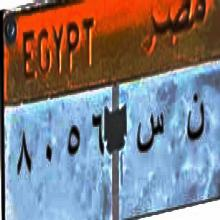0: (40, 133, 56, 173)
5: (67, 118, 82, 164)
6: (87, 112, 105, 164)
8: (14, 128, 33, 181)
noon: (180, 88, 212, 158)
seen: (136, 102, 172, 158)
